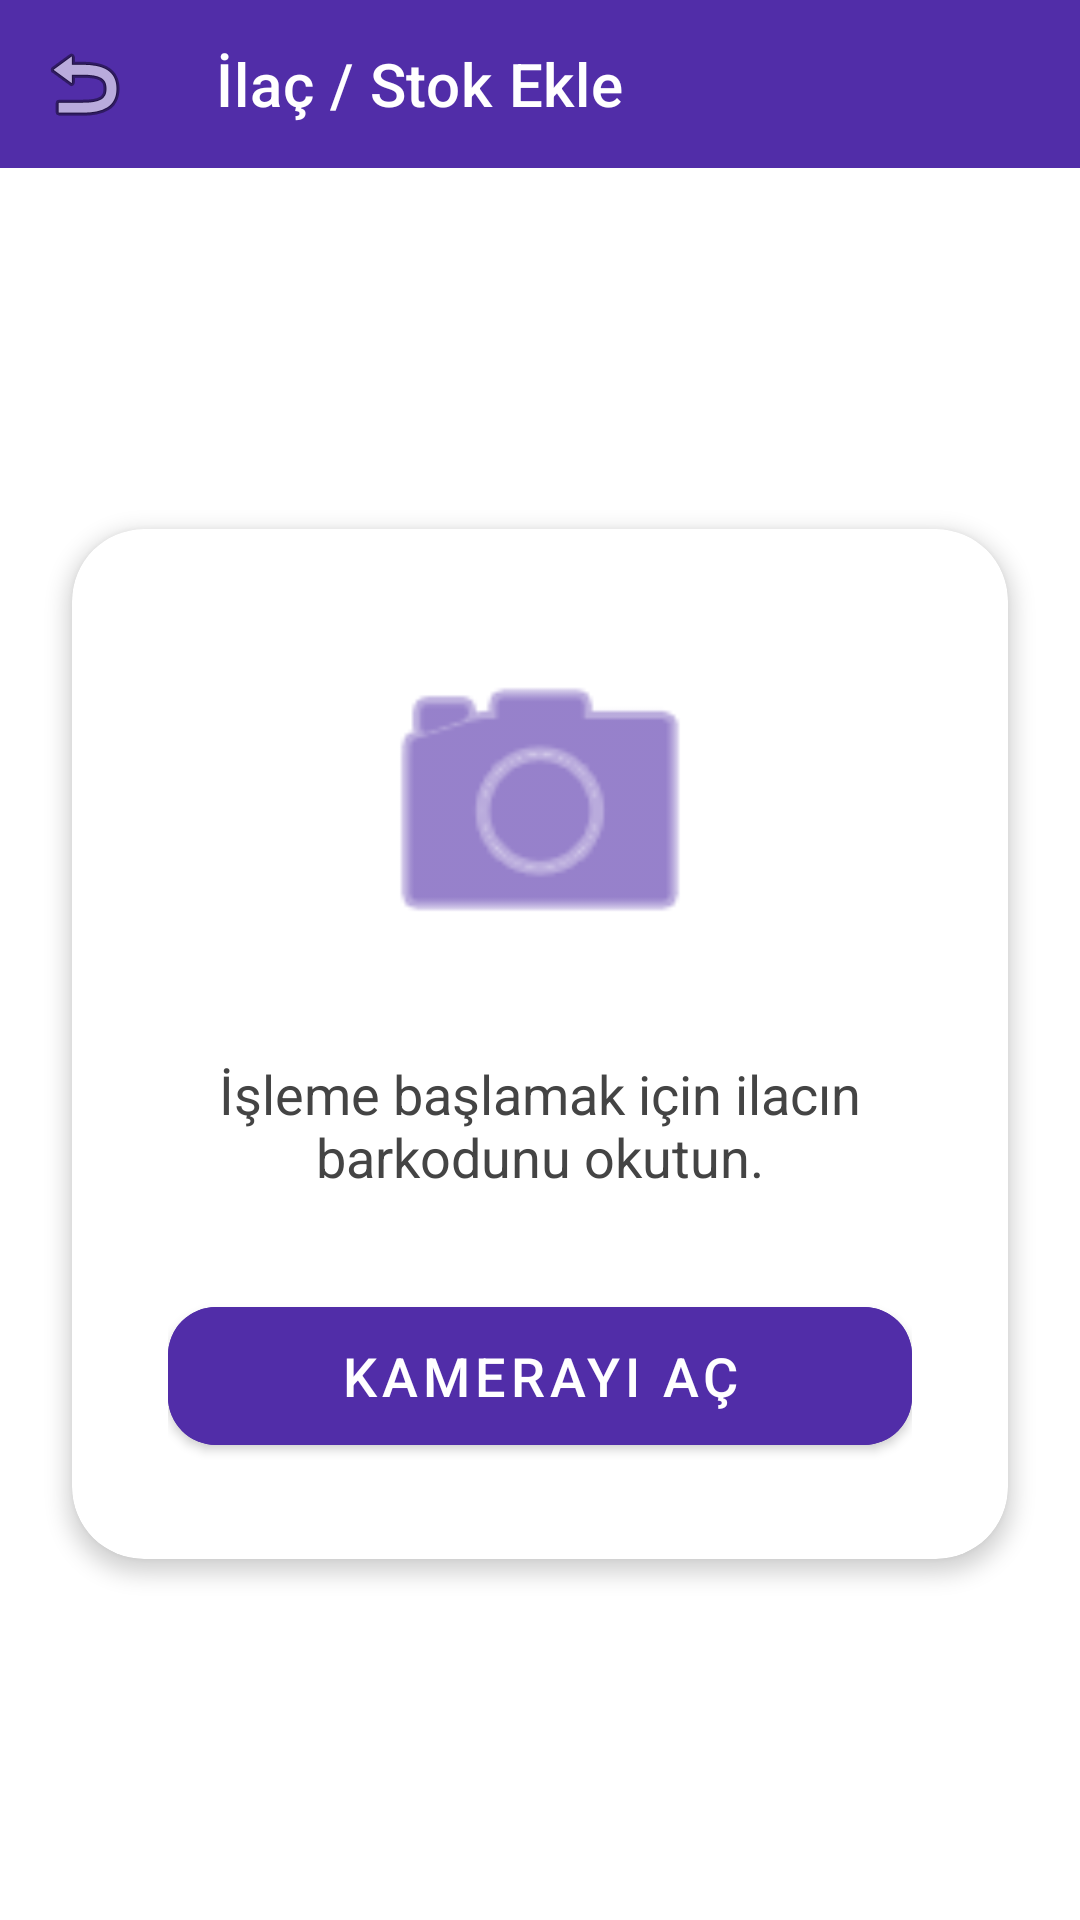

Named icons in this screenshot (1080 × 1920) and their bounding boxes, (x1, y1, x2, y2):
camera: (401, 689, 679, 910)
